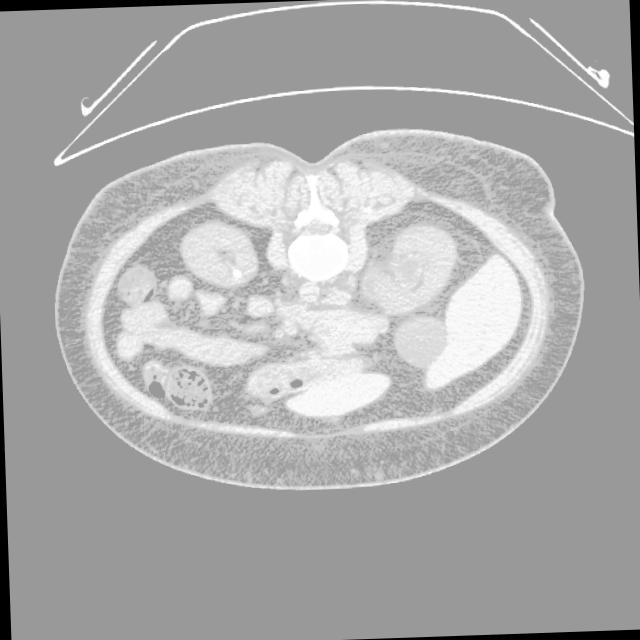STONE: (58, 258, 309, 453)
